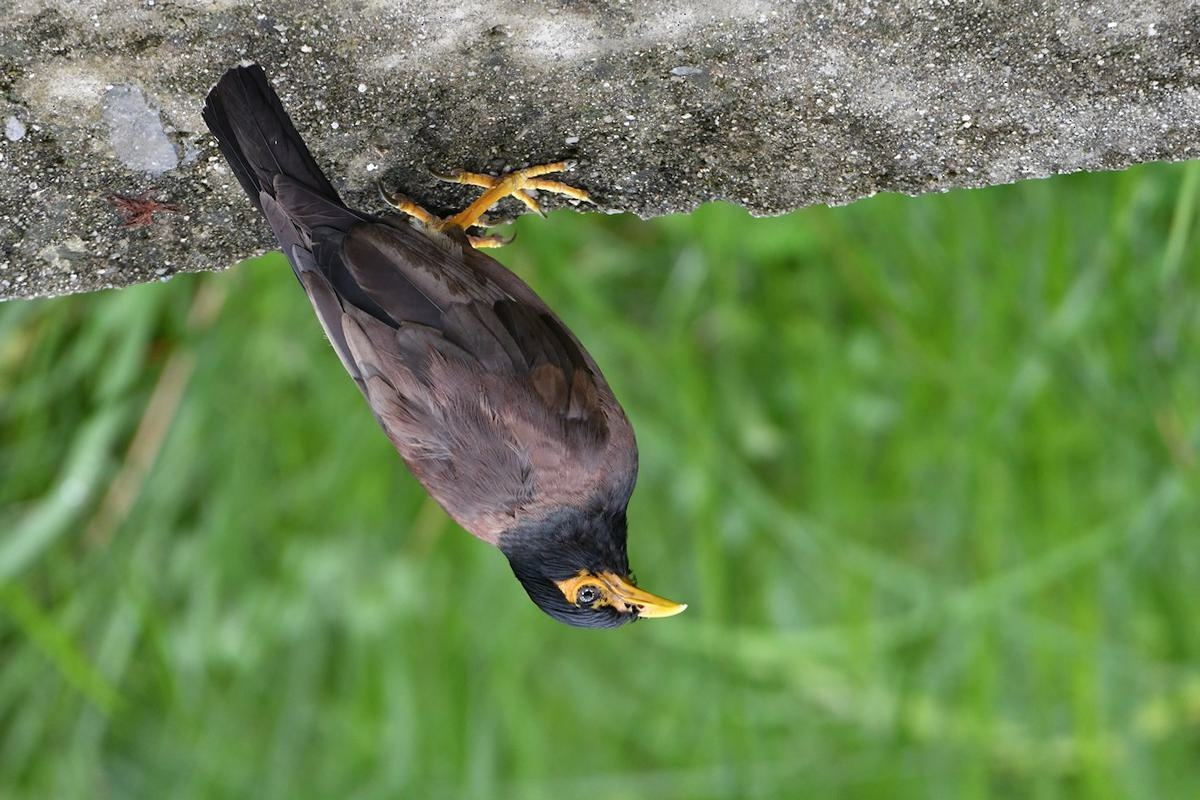myna: (253, 84, 710, 655)
